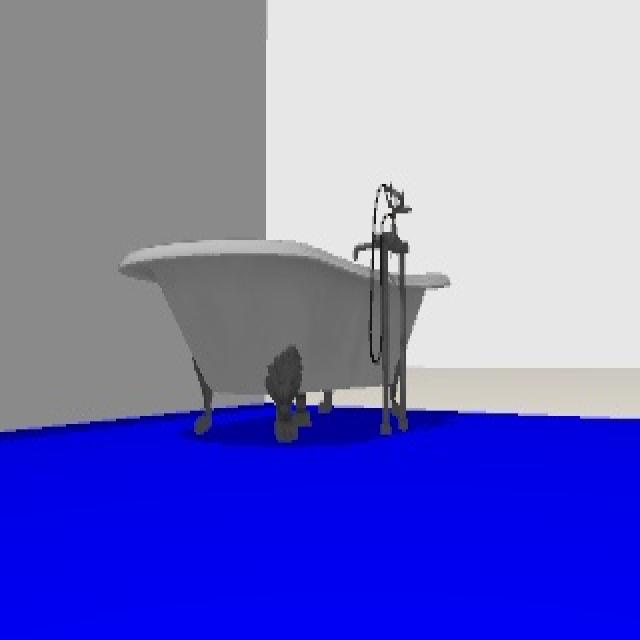bathtub: (121, 184, 452, 441)
